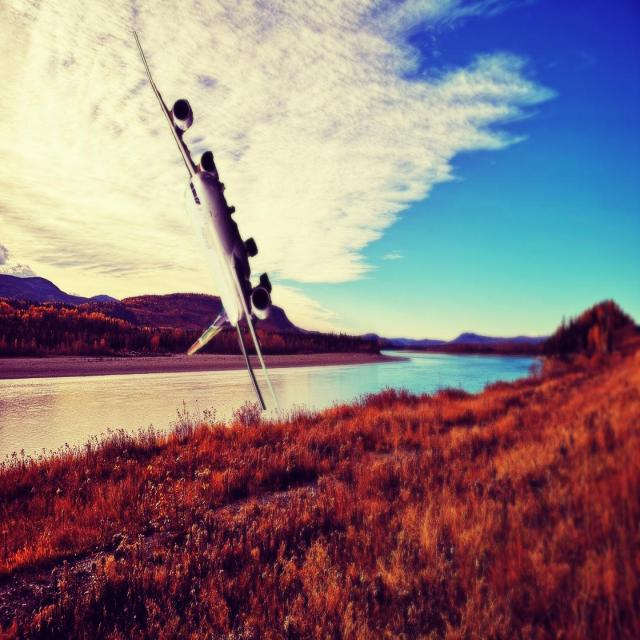airplane: (130, 26, 304, 412)
